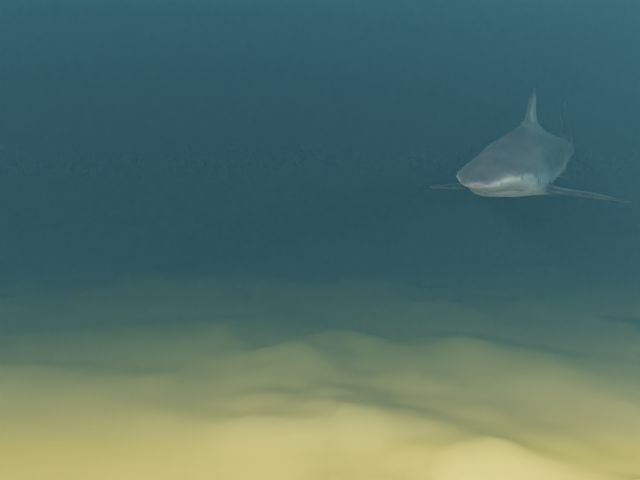Carribean Shark.001: (428, 86, 633, 202)
